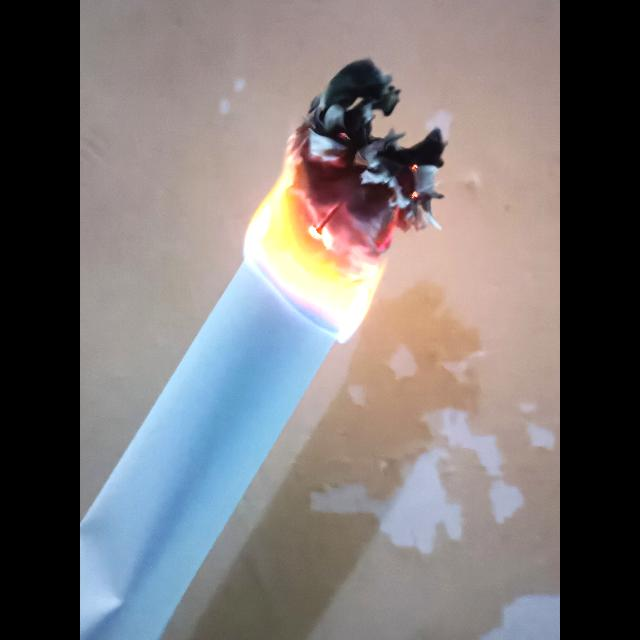fire: (245, 60, 445, 340)
